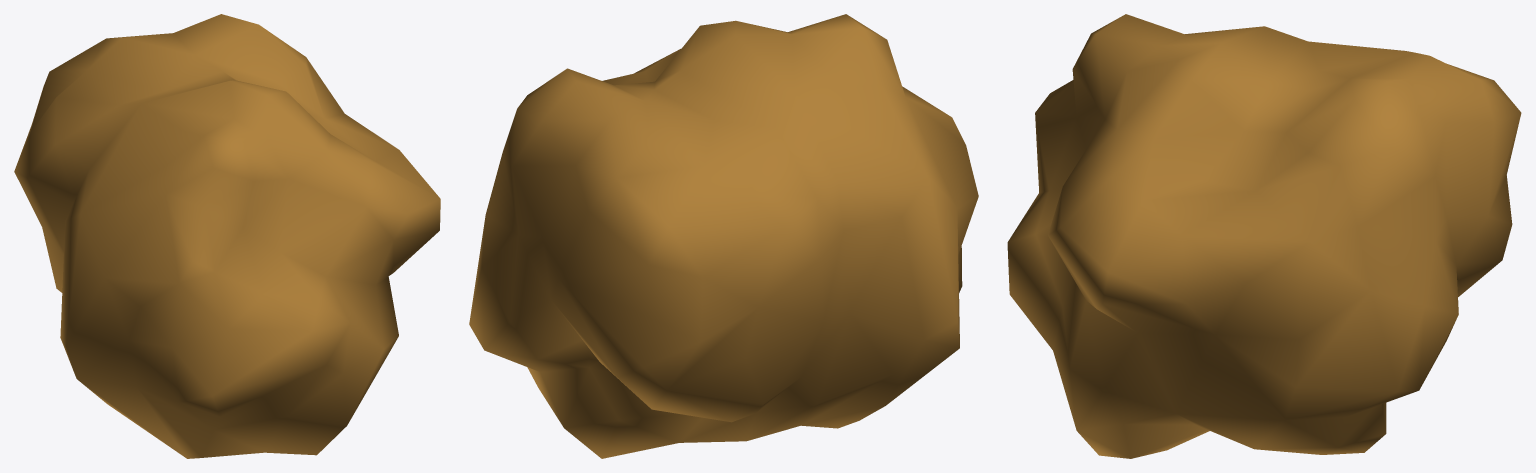
Rendered from Mgenitalium_yihN_3hfx_0_1_0.dae.
3 renders of one model, left to right at view 1: azimuth 30°, elevation 25°; view 2: azimuth 150°, elevation 25°; view 3: azimuth 270°, elevation 25°, orthographic. The views are drawn at different scales.
Visible parts, largest first — view 1: CoarseMS_3hfx; view 2: CoarseMS_3hfx; view 3: CoarseMS_3hfx.
Boxes of the visible parts, left/top/right/bottom form: CoarseMS_3hfx: left=14, top=14, right=440, bottom=458; CoarseMS_3hfx: left=469, top=14, right=978, bottom=458; CoarseMS_3hfx: left=1007, top=14, right=1521, bottom=458.
Size of the model in its own units: 64.42 by 60.75 by 71.49.
